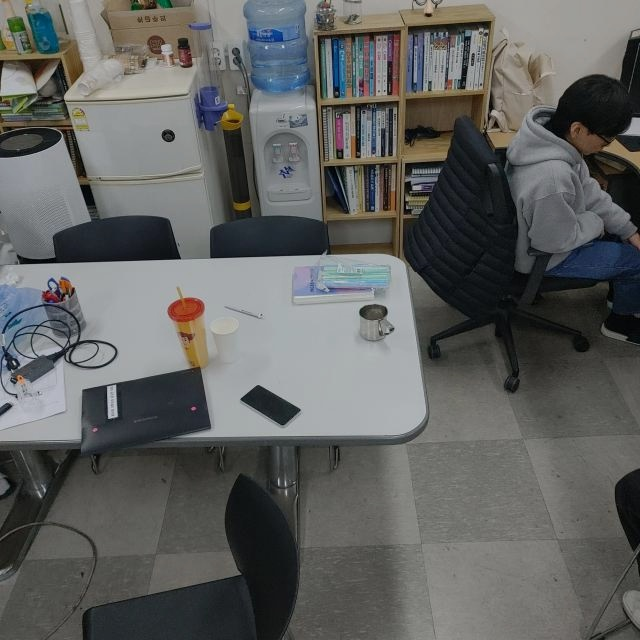cup: (358, 302, 395, 344)
phone: (240, 382, 302, 430)
